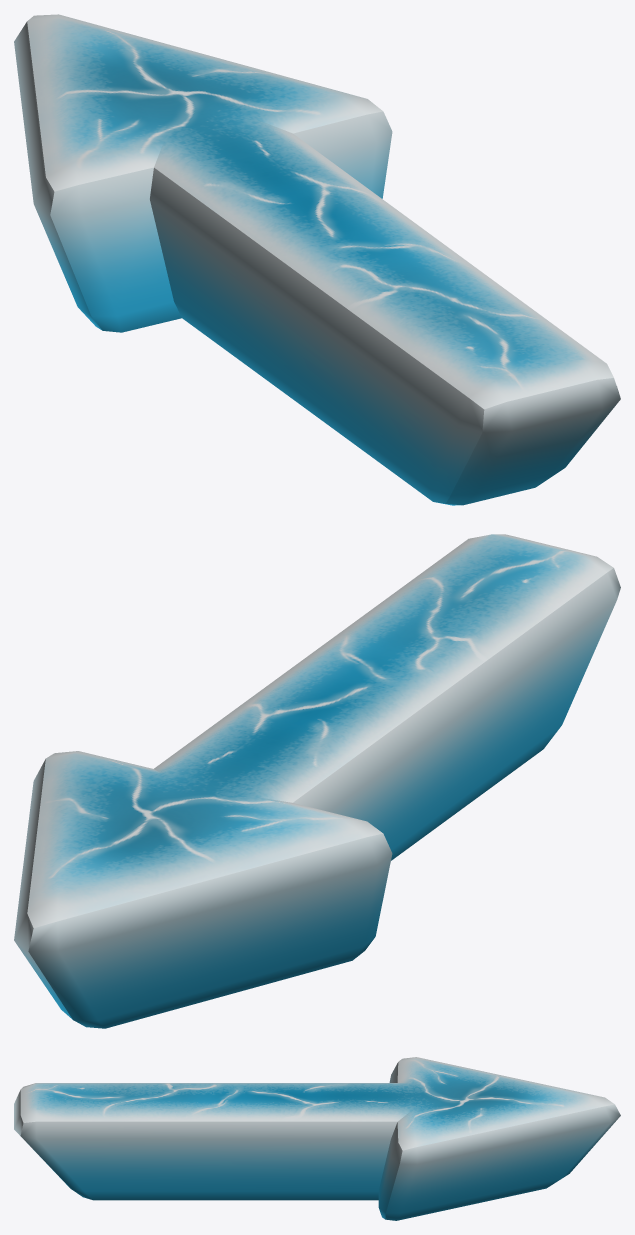
Rendered from yazirushi_05.fbx.
The picture shows the model from 3 angles, top to bottom: view 1: azimuth 30°, elevation 25°; view 2: azimuth 150°, elevation 25°; view 3: azimuth 270°, elevation 25°; orthographic projection. The views are drawn at different scales.
Parts seen in each view (by area): view 1: yazirusi8; view 2: yazirusi8; view 3: yazirusi8.
Boxes of the visible parts, x1,y1,x2,y2 form: yazirusi8: (14, 14, 620, 505); yazirusi8: (14, 534, 620, 1028); yazirusi8: (14, 1057, 620, 1220).
Size of the model in its own units: 2.17 by 0.9804 by 5.78.
